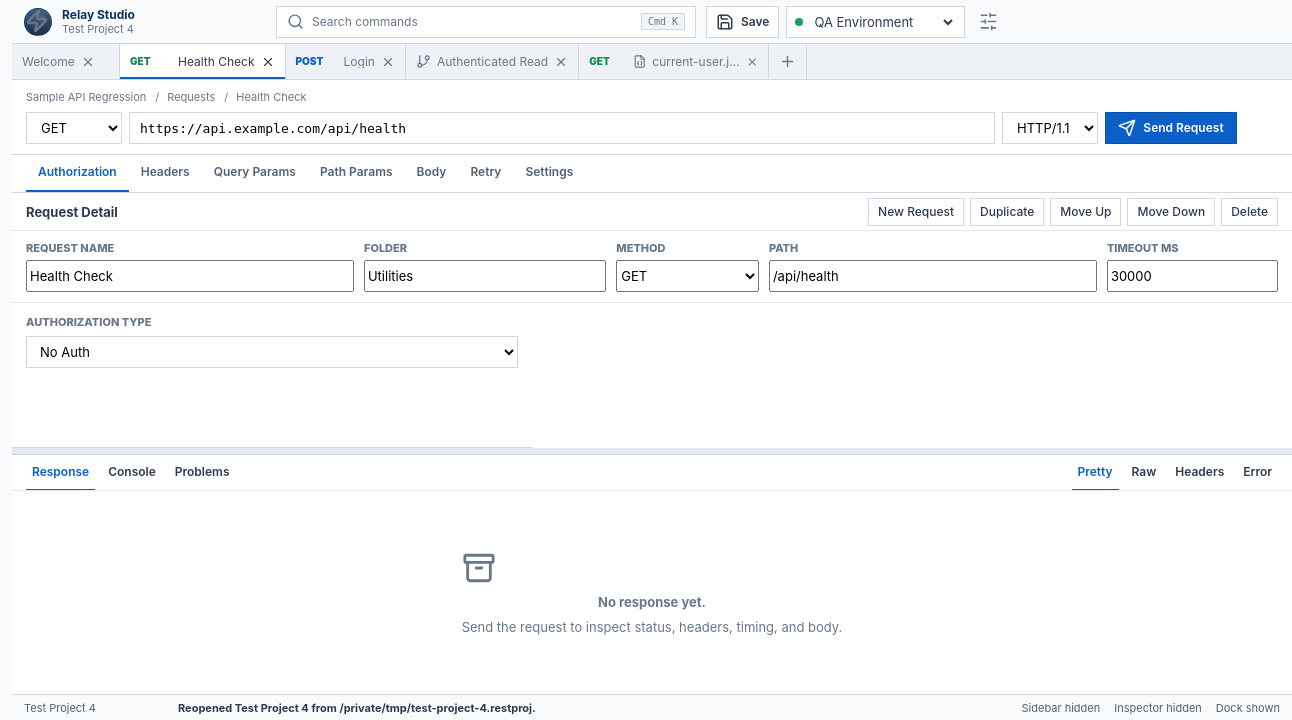
Test case: Relay Studio native shell commands › handles native View menu toggles and refreshes checked menu state
Step 1. Click the tab "Authenticated Read" → (493, 62), box top-left (406, 44), bottom-right (579, 79)
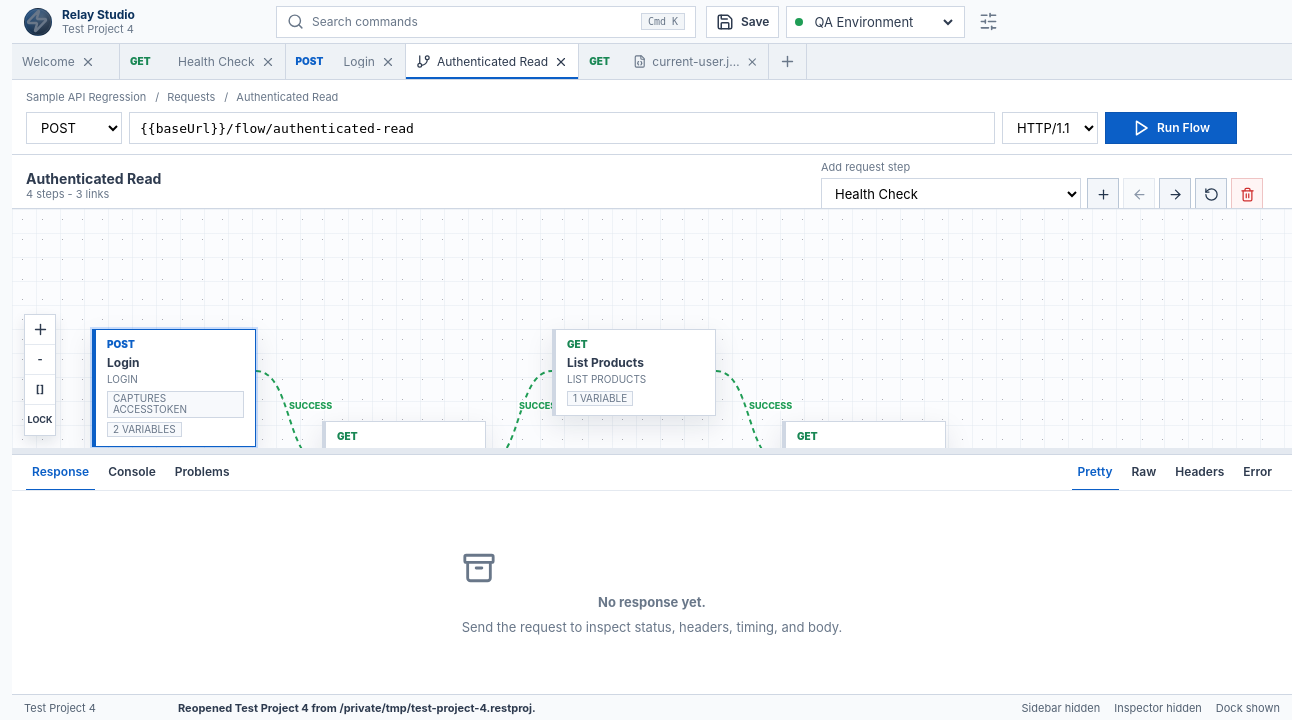
expect the element named "Flow builder" is shown: met, box top-left (12, 155), bottom-right (1291, 448)
